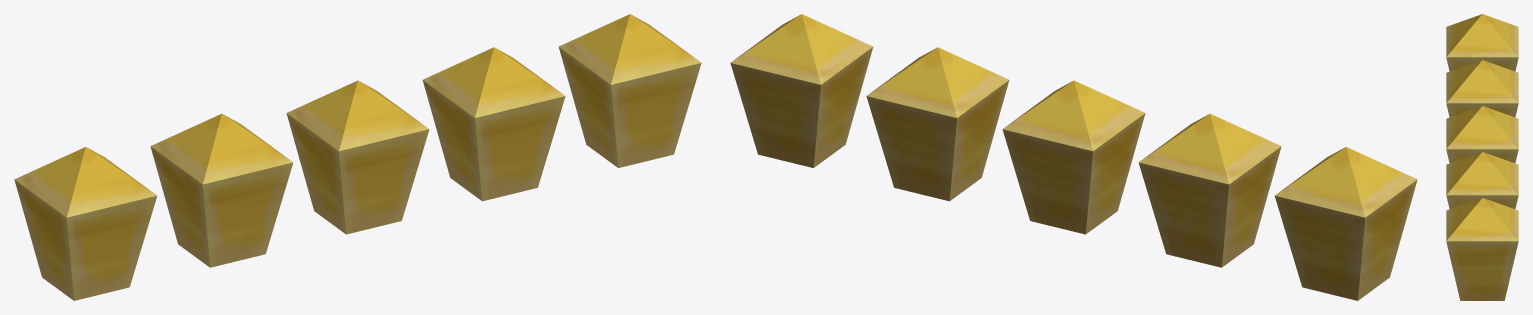
Rendered from SmallBarrierx5.fbx.
The picture shows the model from 3 angles, left to right: view 1: azimuth 30°, elevation 25°; view 2: azimuth 150°, elevation 25°; view 3: azimuth 270°, elevation 25°; orthographic projection. The views are drawn at different scales.
Parts seen in each view (by area): view 1: Cube; view 2: Cube; view 3: Cube.
Part boxes in pixels (x1,y1,x2,y2): Cube: [14, 14, 701, 300]; Cube: [730, 14, 1417, 300]; Cube: [1446, 14, 1518, 300].
Bounding box in the file's own units: 1400 × 286 × 200.
1 material, 1 textured.
